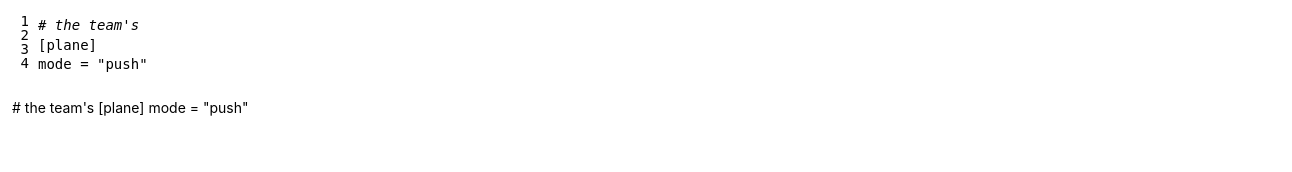
Test: the text editor › finds in the text on ⌘F or Ctrl+F, marking every match
Press f in the field named "charter.toml, as TOML", box [38,17,148,72]
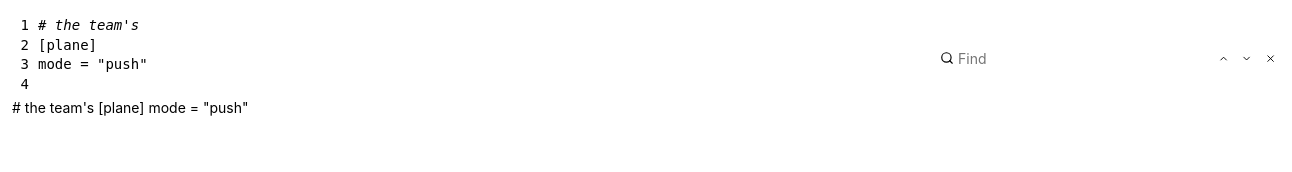
Check: the element named "Find in charter.toml, as TOML" is shown, box [931,41,1284,75]
Type "p" into the search field labelled "Find" at x=1032, y=58, box [934,44,1130,72]
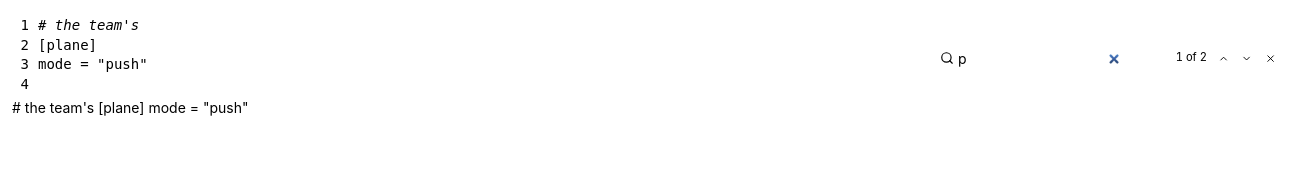
Check: the message reads "1 of 2", box [1176,50,1207,64]
